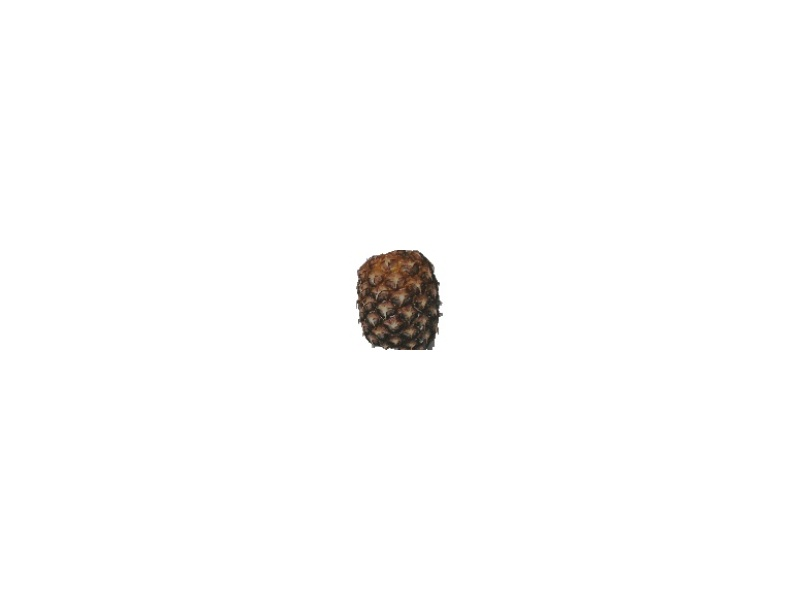abacaxi: (352, 247, 444, 353)
